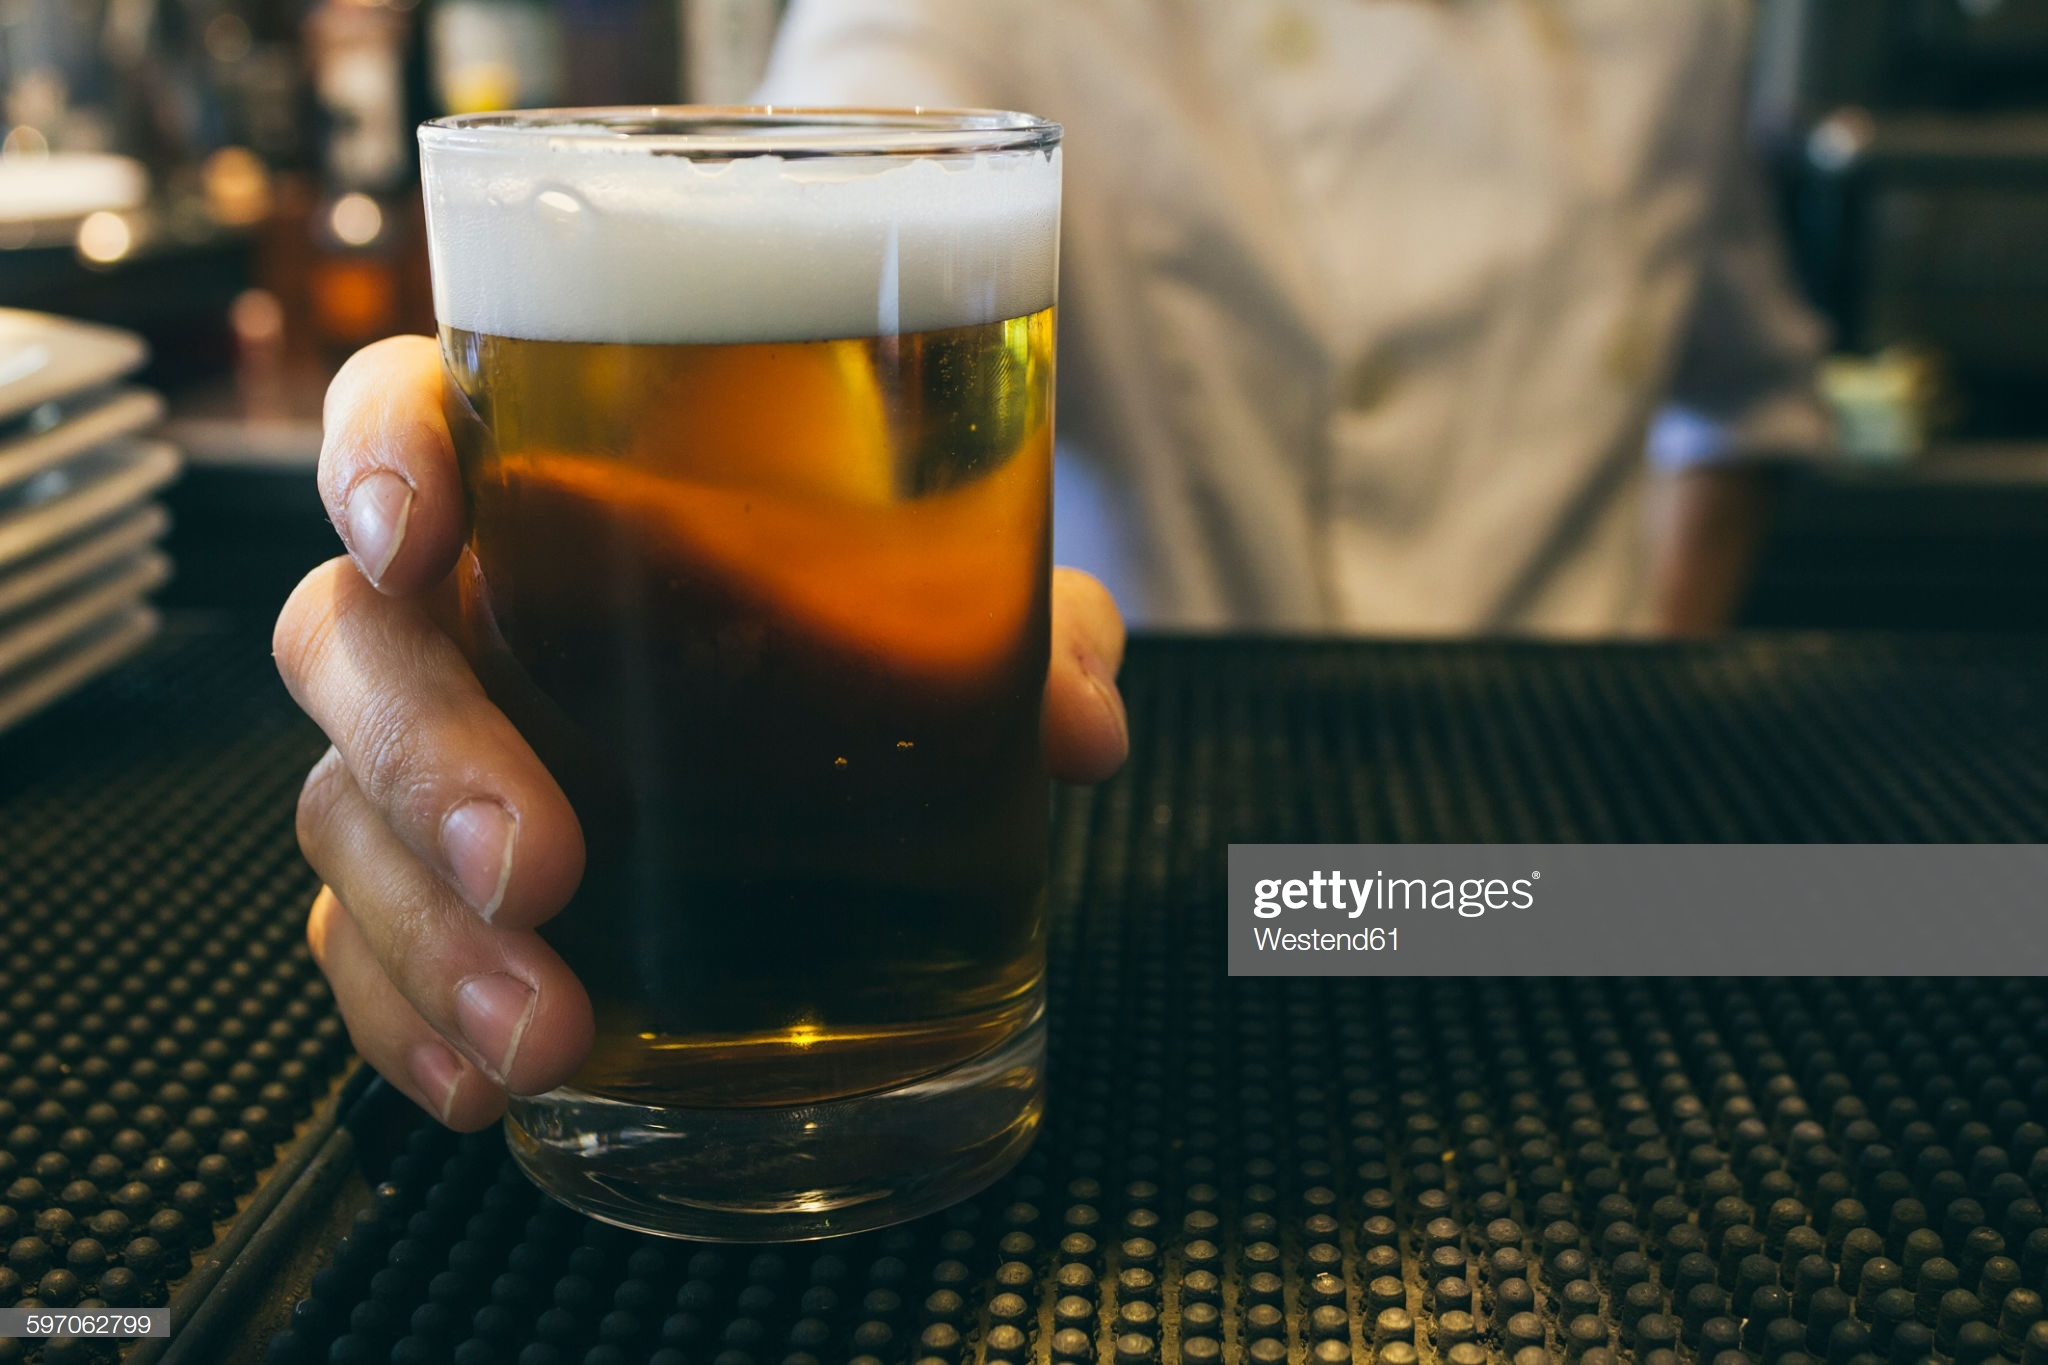glassBeer: (422, 107, 1061, 1223)
